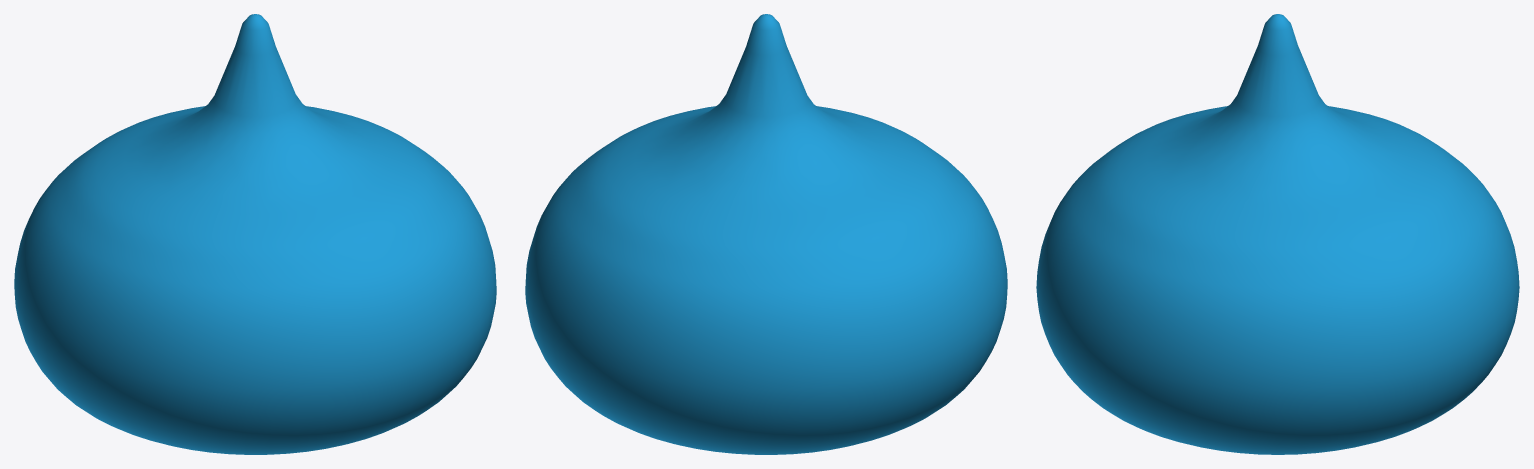
Rendered from slime_simple_high.obj.
3 renders of one model, left to right at view 1: azimuth 30°, elevation 25°; view 2: azimuth 150°, elevation 25°; view 3: azimuth 270°, elevation 25°, orthographic.
Parts seen in each view (by area): view 1: slime; view 2: slime; view 3: slime.
Part boxes in pixels (x1=…): slime: x1=14, y1=14, x2=496, y2=454; slime: x1=525, y1=14, x2=1007, y2=454; slime: x1=1036, y1=14, x2=1519, y2=454.
Bounding box in the file's own units: 1.88 × 1.72 × 1.88.
